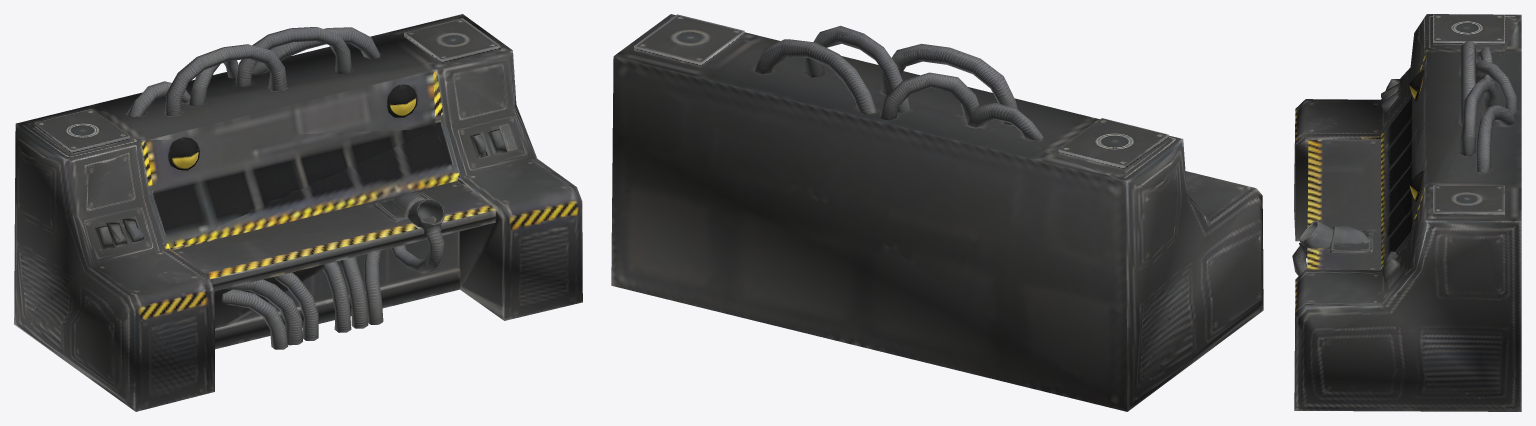
File: core_console.glb
3 views of the same model, side by side, from view 1: azimuth 30°, elevation 25°; view 2: azimuth 150°, elevation 25°; view 3: azimuth 270°, elevation 25° (orthographic). The views are drawn at different scales.
Visible parts, largest first — view 1: core_console; view 2: core_console; view 3: core_console.
Part boxes in pixels (bbox=[...]): core_console: bbox=[14, 14, 582, 411]; core_console: bbox=[611, 14, 1263, 411]; core_console: bbox=[1292, 14, 1521, 411].
Size of the model in its own units: 4 by 2.06 by 1.79.
1 material, 1 textured.
